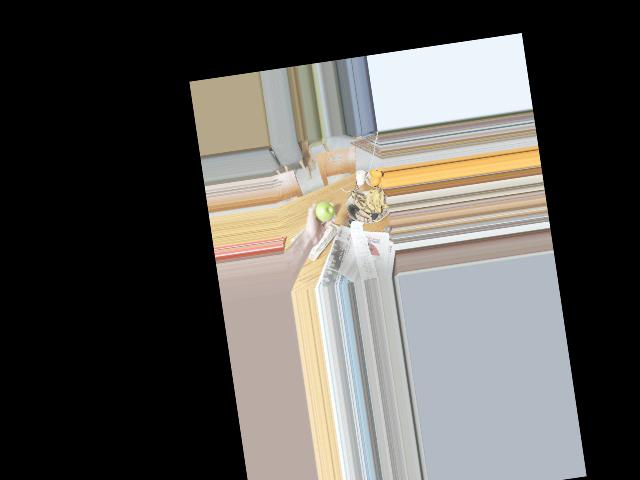apple: (311, 199, 337, 225)
